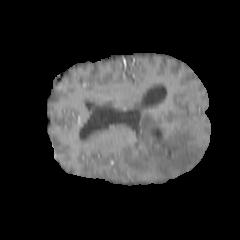glioma: (121, 109, 201, 177)
